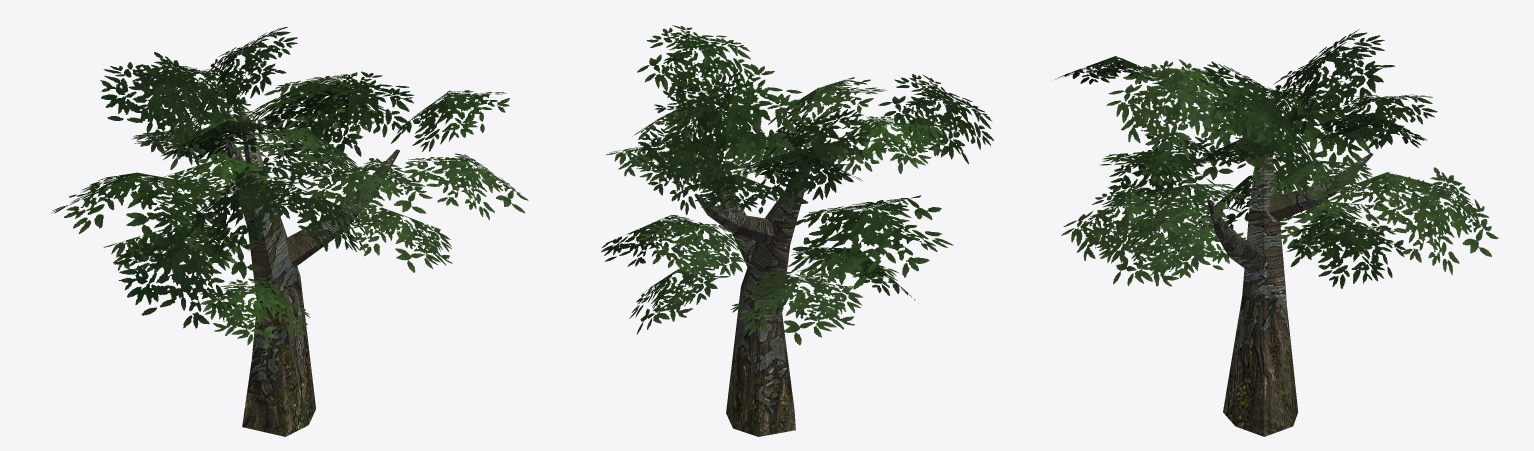
The model's file is a_zhiwu_010.fbx.
3 views of the same model, side by side, from view 1: azimuth 30°, elevation 25°; view 2: azimuth 150°, elevation 25°; view 3: azimuth 270°, elevation 25° (orthographic). The views are drawn at different scales.
Visible parts, largest first — view 1: a_zhiwu_010; view 2: a_zhiwu_010; view 3: a_zhiwu_010.
Part boxes in pixels (x1,y1,x2,y2): a_zhiwu_010: (51,27,528,436); a_zhiwu_010: (601,25,993,436); a_zhiwu_010: (1055,29,1498,436).
Size of the model in its own units: 12.5 by 9.55 by 12.03.
